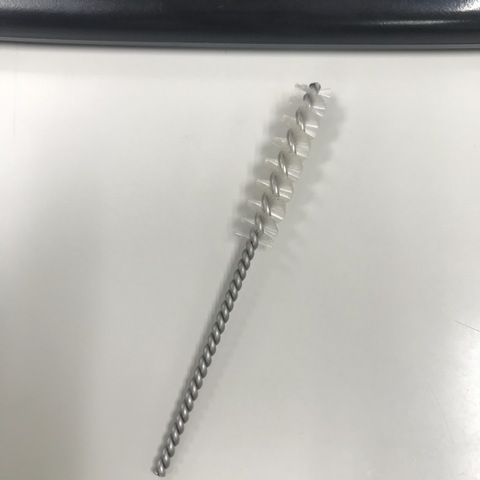Twist Brush-B: (145, 80, 339, 479)
